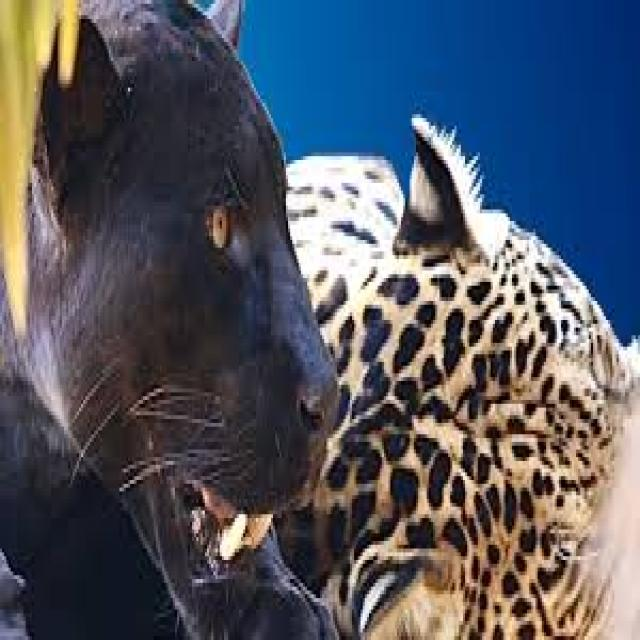Jaguar: (23, 19, 316, 640), (290, 134, 621, 636)
